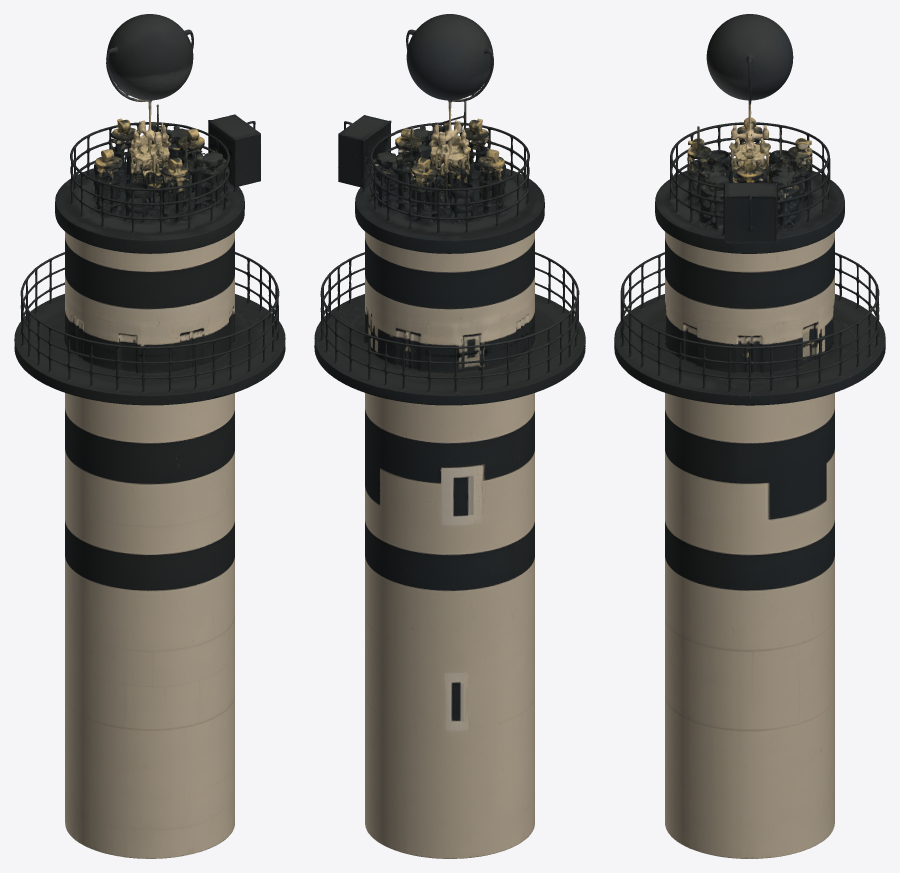
File: lighthouse.glb
3 renders of one model, left to right at view 1: azimuth 30°, elevation 25°; view 2: azimuth 150°, elevation 25°; view 3: azimuth 270°, elevation 25°, orthographic.
Size of the model in its own units: 0.5802 by 1.9 by 0.5801.
Materials: 1 (1 with a texture image).
